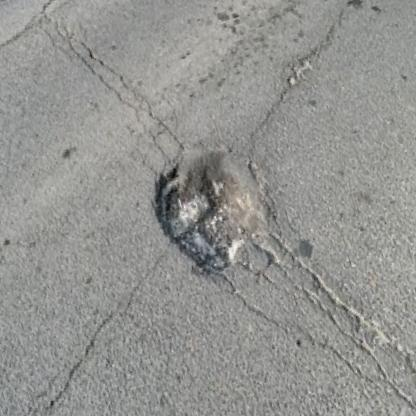pothole: (141, 133, 283, 287)
